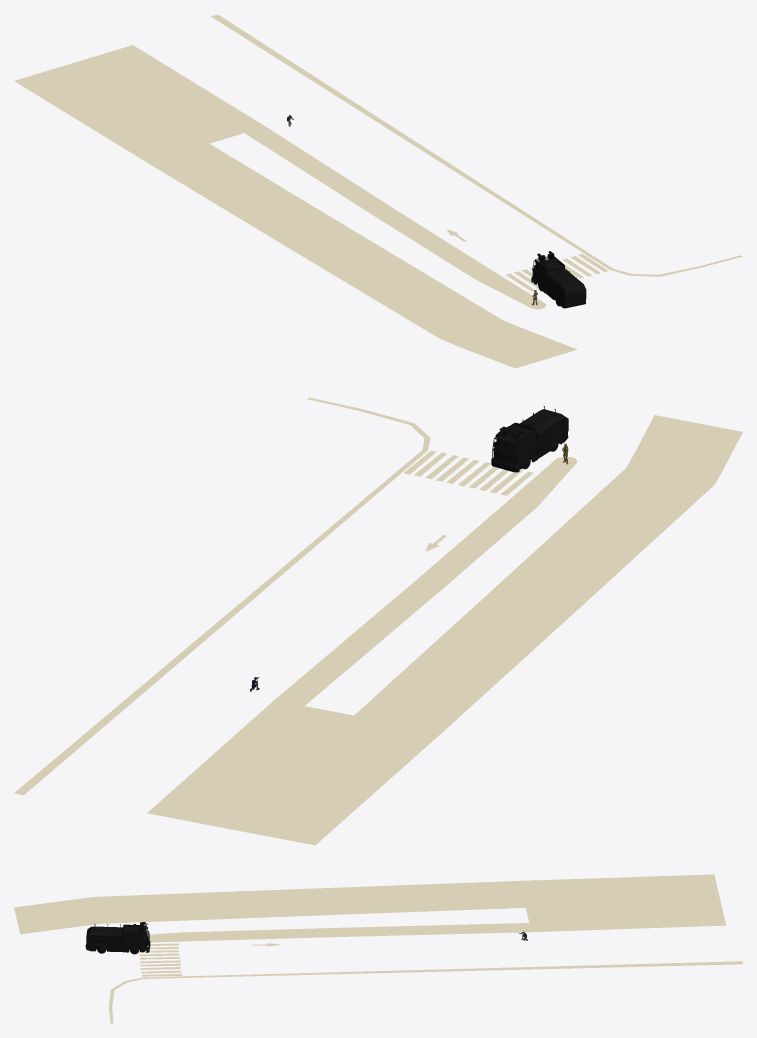
File: area.glb
3 views of the same model, one above another, from view 1: azimuth 30°, elevation 25°; view 2: azimuth 150°, elevation 25°; view 3: azimuth 270°, elevation 25° (orthographic). The views are drawn at different scales.
Parts seen in each view (by area): view 1: Suelo, PoliciaCamion; view 2: Suelo, PoliciaCamion; view 3: Suelo, PoliciaCamion.
Boxes of the visible parts, left/top/right/bottom form: Suelo: left=14, top=14, right=742, bottom=368; PoliciaCamion: left=531, top=251, right=586, bottom=308; Suelo: left=14, top=397, right=742, bottom=845; PoliciaCamion: left=491, top=406, right=568, bottom=472; Suelo: left=14, top=874, right=742, bottom=1023; PoliciaCamion: left=85, top=922, right=150, bottom=954.
Bounding box in the file's own units: 45.72 × 3.82 × 94.34.
4 materials, 1 textured.
